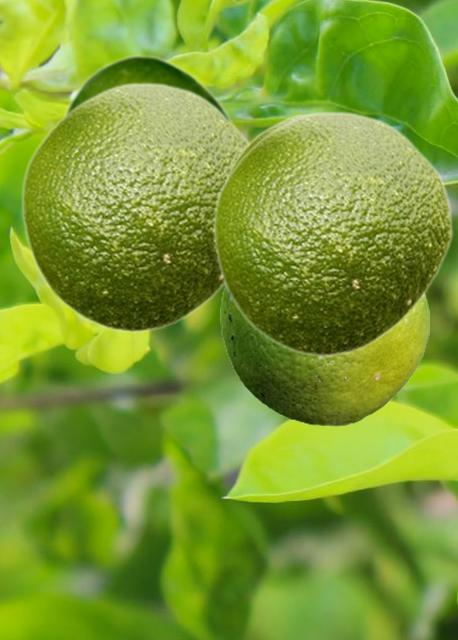calamansi: (212, 110, 452, 357), (20, 81, 249, 333), (220, 289, 428, 425), (60, 53, 236, 124)
